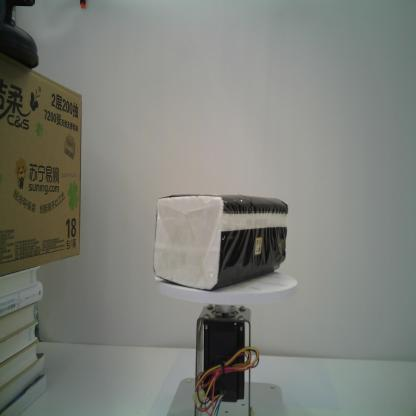Tissue: (152, 194, 289, 290)
